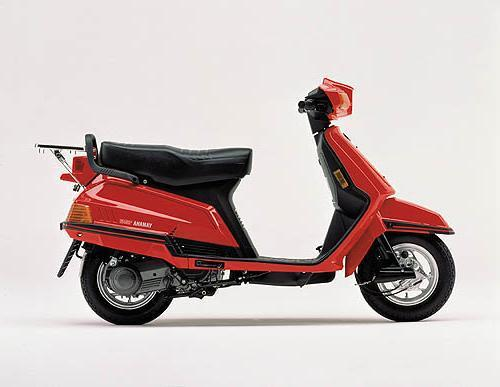motorcycle: (29, 67, 470, 332)
